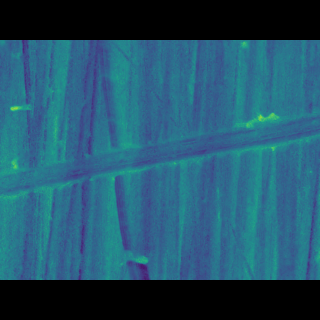Loch: (0, 122, 320, 192), (88, 69, 153, 252)
